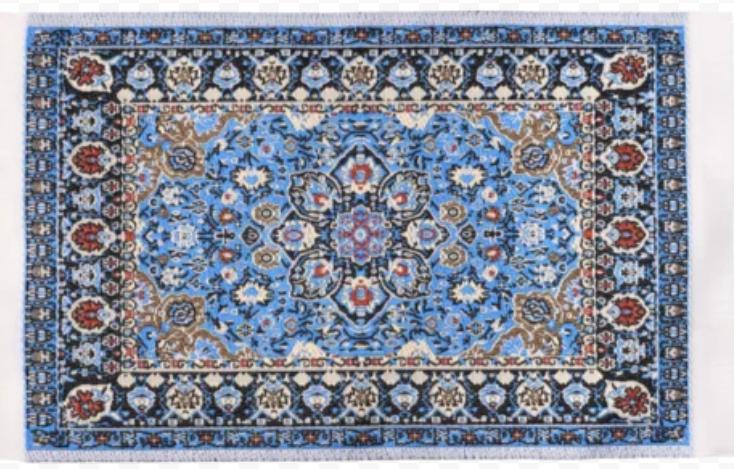carpet: (24, 14, 694, 458)
